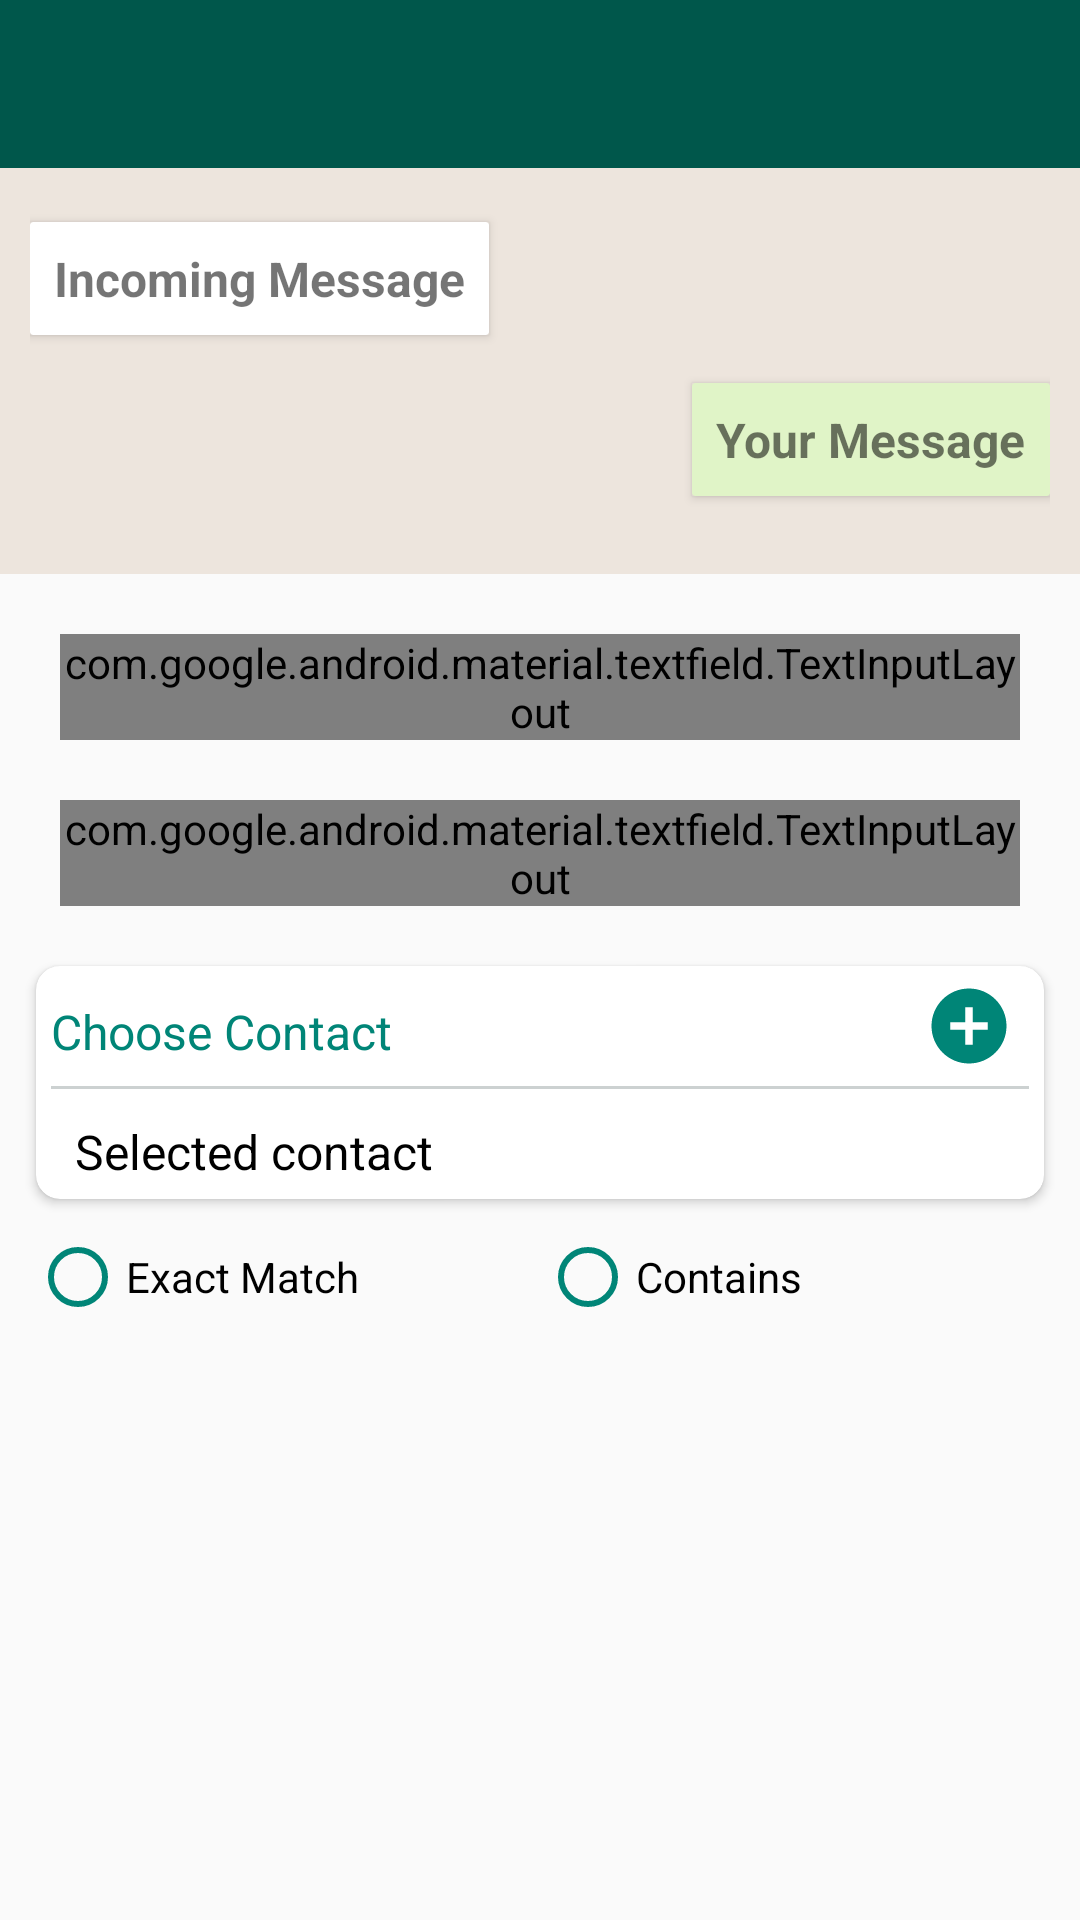

Named icons in this screenshot (1080px×1920px) and their centers, (x=x, y=y):
add contact: (x=969, y=1026)
